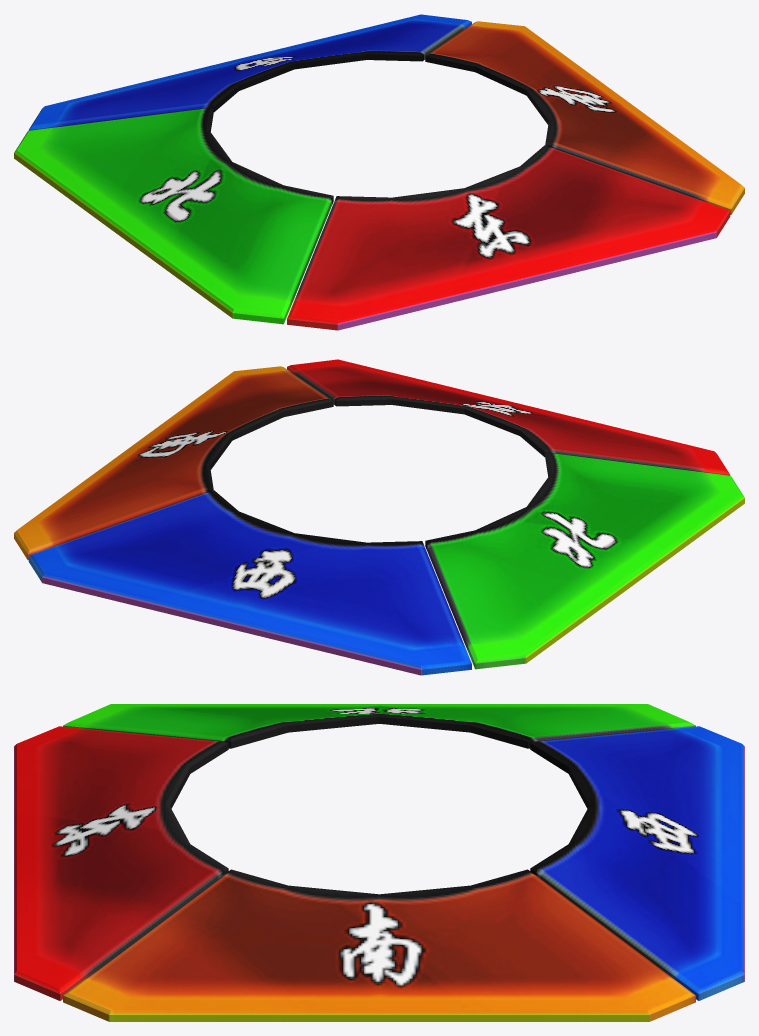
Rendered from majiangzhuo_2.FBX.
3 renders of one model, top to bottom at view 1: azimuth 30°, elevation 25°; view 2: azimuth 150°, elevation 25°; view 3: azimuth 270°, elevation 25°, orthographic. The views are drawn at different scales.
Visible parts, largest first — view 1: DNXB_dong, DNXB_bei, DNXB_nan, DNXB_xi; view 2: DNXB_xi, DNXB_bei, DNXB_nan, DNXB_dong; view 3: DNXB_nan, DNXB_dong, DNXB_xi, DNXB_bei.
Part boxes in pixels (bbox=[...]): DNXB_dong: bbox=[287, 145, 730, 330]; DNXB_bei: bbox=[14, 108, 333, 324]; DNXB_nan: bbox=[425, 21, 744, 214]; DNXB_xi: bbox=[28, 14, 471, 130]; DNXB_xi: bbox=[28, 490, 471, 675]; DNXB_bei: bbox=[425, 453, 744, 669]; DNXB_nan: bbox=[14, 366, 333, 559]; DNXB_dong: bbox=[287, 359, 730, 475]; DNXB_nan: bbox=[63, 869, 695, 1021]; DNXB_dong: bbox=[14, 726, 228, 1000]; DNXB_xi: bbox=[530, 726, 744, 1000]; DNXB_bei: bbox=[63, 704, 695, 748].
Bounding box in the file's own units: 13 × 1.24 × 13.
Materials: 1 (1 with a texture image).
